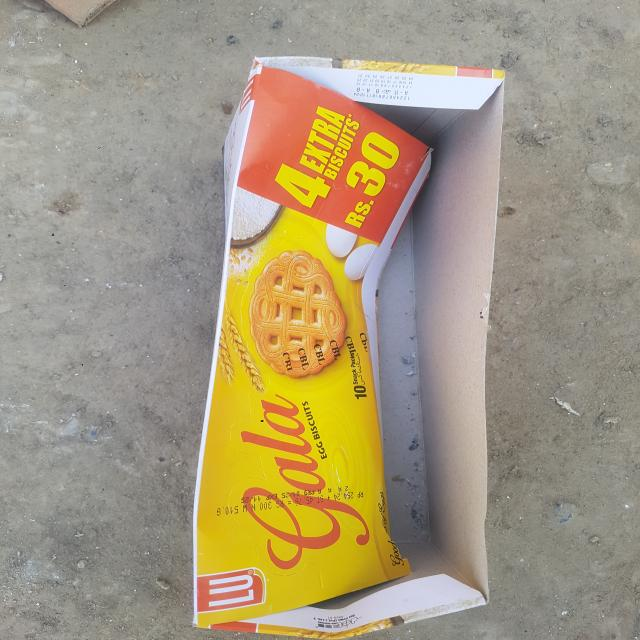electronic: (191, 56, 504, 638), (44, 0, 119, 28)
